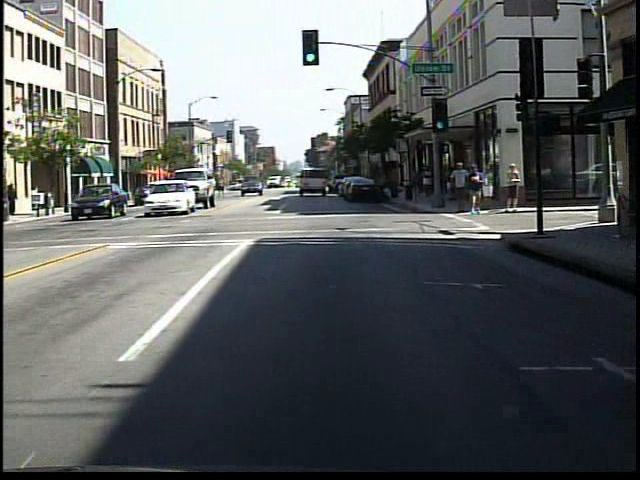person: (501, 159, 523, 216), (448, 160, 470, 215), (466, 163, 487, 219), (480, 163, 497, 214), (418, 162, 436, 205), (213, 174, 231, 202)
